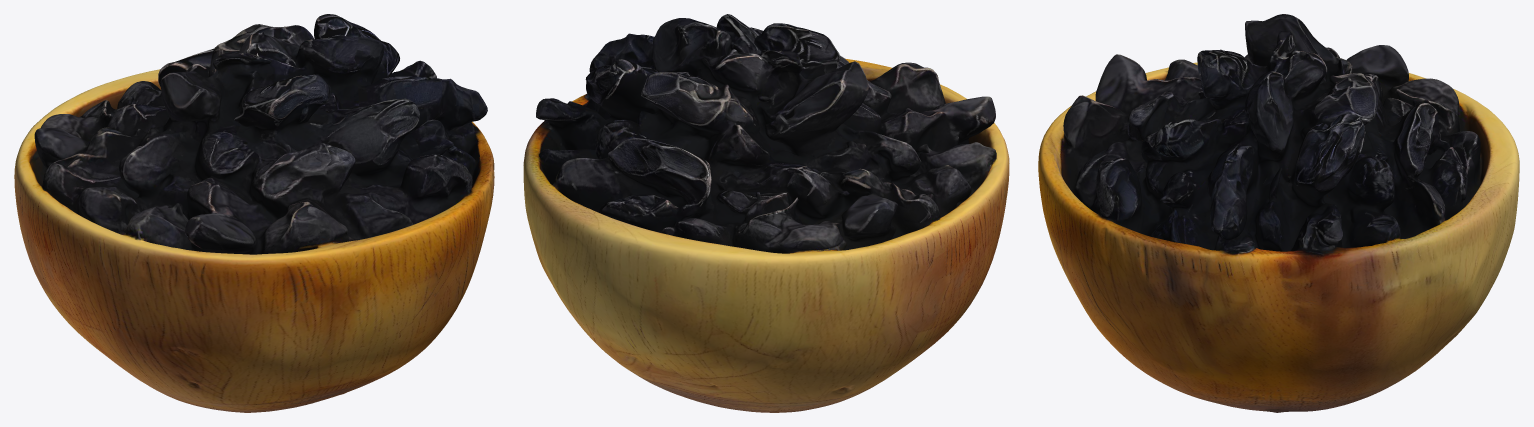
File: Bdates.glb
3 renders of one model, left to right at view 1: azimuth 30°, elevation 25°; view 2: azimuth 150°, elevation 25°; view 3: azimuth 270°, elevation 25°, orthographic.
Visible parts, largest first — view 1: vrin_node_c58925a0-14ed-408e-baf4-41c023150ecc; view 2: vrin_node_c58925a0-14ed-408e-baf4-41c023150ecc; view 3: vrin_node_c58925a0-14ed-408e-baf4-41c023150ecc.
Part boxes in pixels (x1,y1,x2,y2): vrin_node_c58925a0-14ed-408e-baf4-41c023150ecc: (14,14,494,412); vrin_node_c58925a0-14ed-408e-baf4-41c023150ecc: (523,14,1009,412); vrin_node_c58925a0-14ed-408e-baf4-41c023150ecc: (1038,14,1519,412).
Bounding box in the file's own units: 1 × 0.7788 × 0.9991.
Materials: 1 (1 with a texture image).
